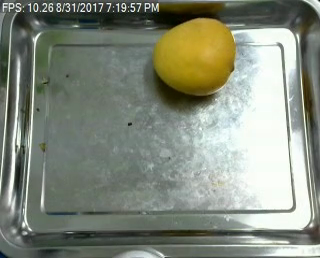Mango: (151, 14, 236, 96)
